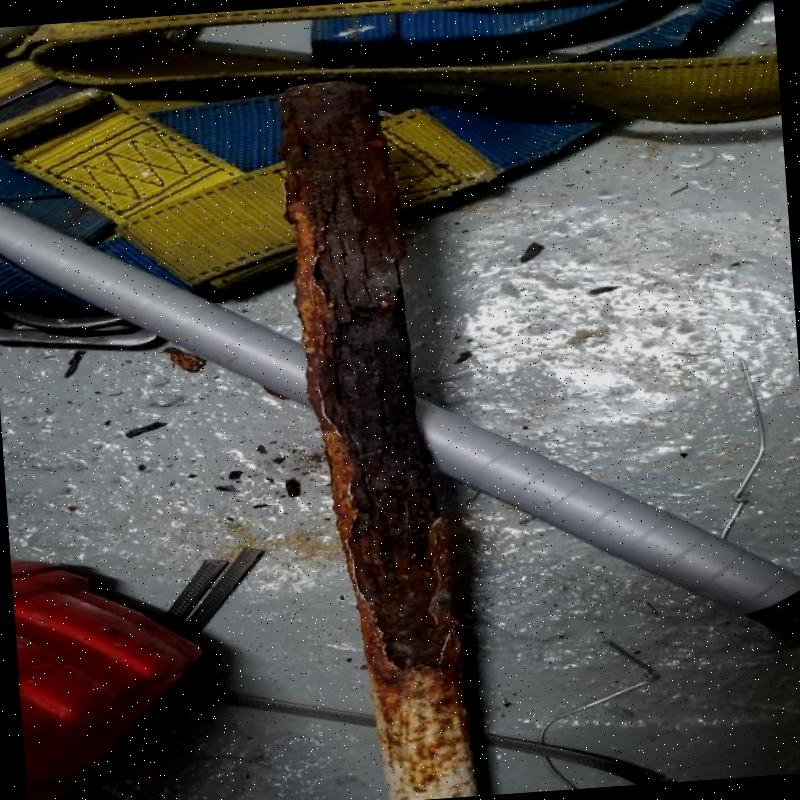corrosion: (277, 102, 460, 660)
